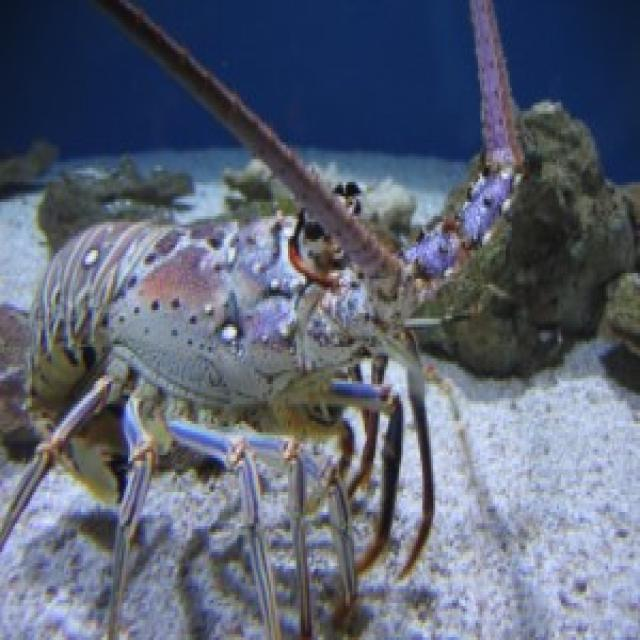lobsters: (28, 16, 541, 516)
